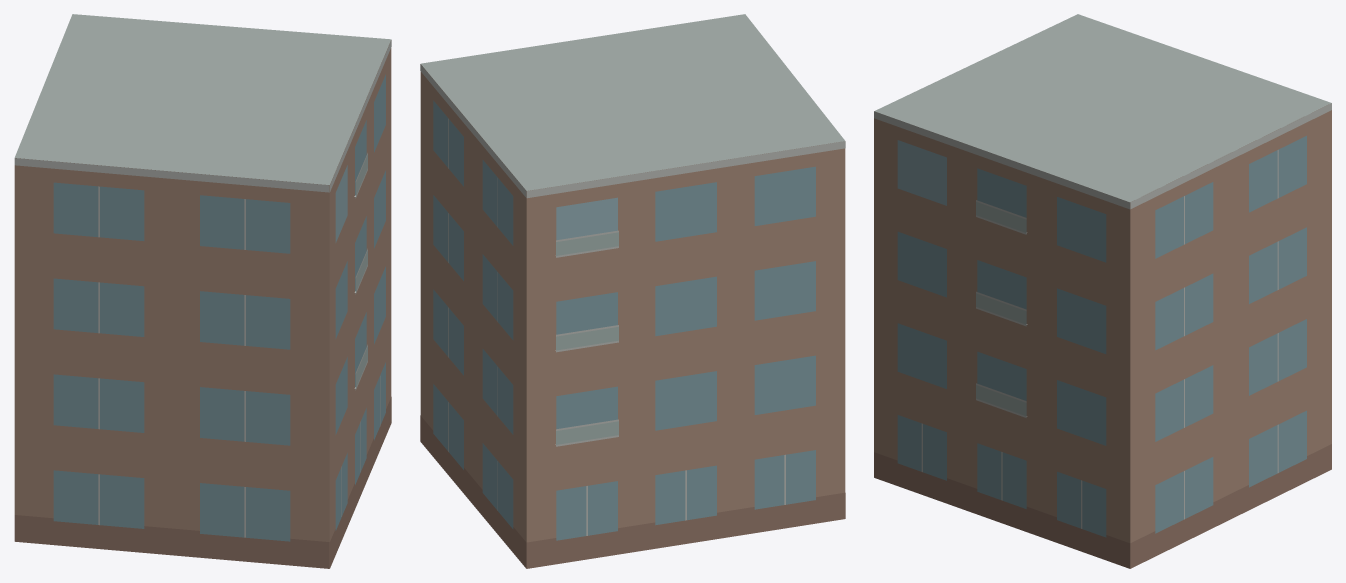
File: survey-upis-32962597.glb
3 renders of one model, left to right at view 1: azimuth 30°, elevation 25°; view 2: azimuth 150°, elevation 25°; view 3: azimuth 270°, elevation 25°, orthographic. The views are drawn at different scales.
Visible parts, largest first — view 1: survey-upis-32962597.tmp; view 2: survey-upis-32962597.tmp; view 3: survey-upis-32962597.tmp.
Boxes of the visible parts, x1,y1,x2,y2 form: survey-upis-32962597.tmp: (14,14,391,568); survey-upis-32962597.tmp: (420,14,845,568); survey-upis-32962597.tmp: (874,14,1331,568).
Size of the model in its own units: 13.9 by 12.6 by 14.27.
